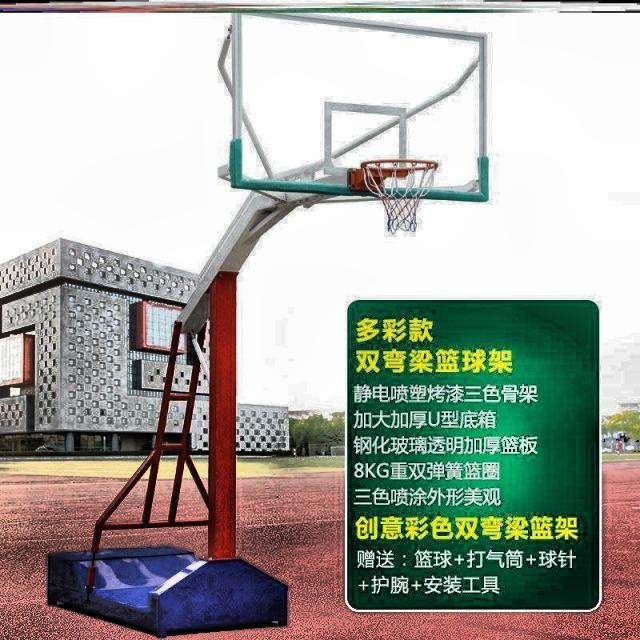rim: (362, 157, 440, 236)
